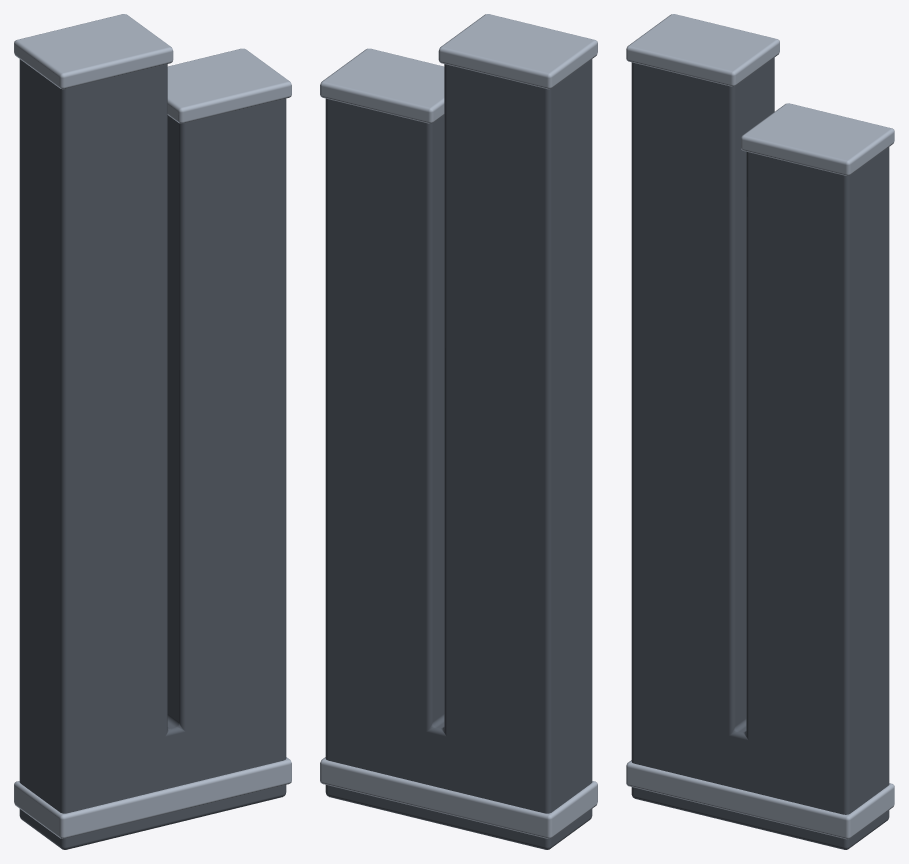
The model's file is monolith-rift.glb.
The picture shows the model from 3 angles, left to right: view 1: azimuth 30°, elevation 25°; view 2: azimuth 150°, elevation 25°; view 3: azimuth 330°, elevation 25°; orthographic projection. The views are drawn at different scales.
Visible parts, largest first — view 1: monolith-rift-body, monolith-rift-steel; view 2: monolith-rift-body, monolith-rift-steel; view 3: monolith-rift-body, monolith-rift-steel.
Boxes of the visible parts, bbox=[...] form: monolith-rift-body: bbox=[19, 59, 286, 849]; monolith-rift-steel: bbox=[14, 14, 291, 838]; monolith-rift-body: bbox=[325, 59, 592, 849]; monolith-rift-steel: bbox=[320, 14, 597, 838]; monolith-rift-body: bbox=[631, 57, 889, 849]; monolith-rift-steel: bbox=[626, 14, 894, 839].
Size of the model in its own units: 2.68 by 8.6 by 0.98.
